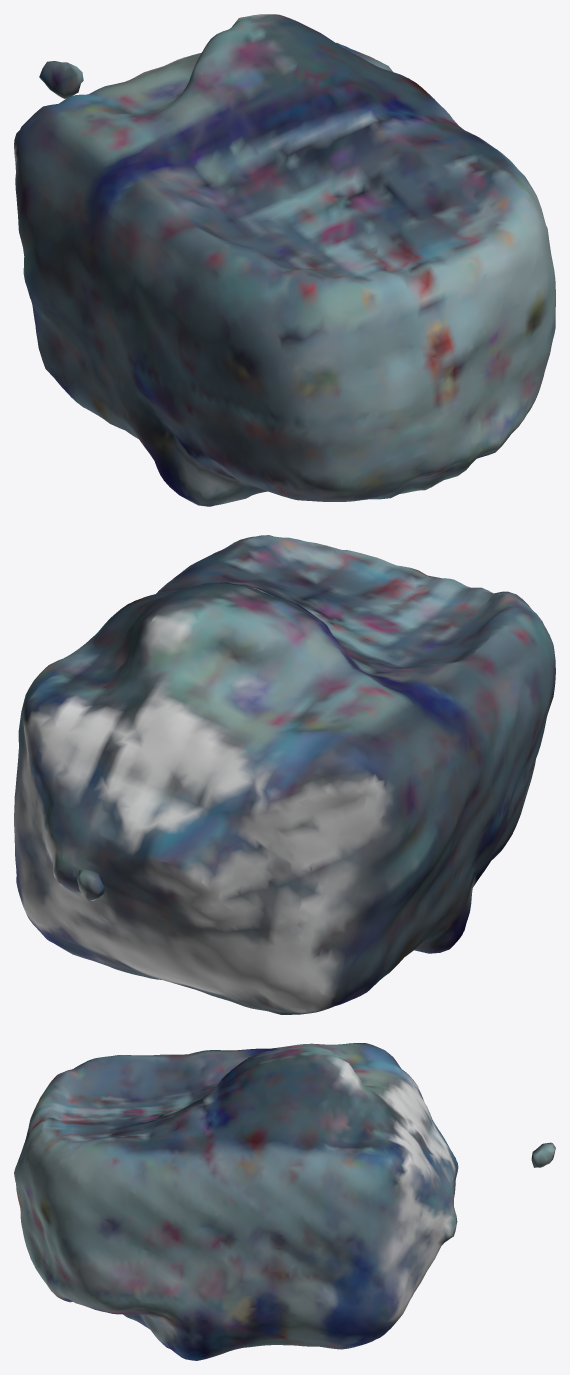
File: backpack.glb
3 views of the same model, one above another, from view 1: azimuth 30°, elevation 25°; view 2: azimuth 150°, elevation 25°; view 3: azimuth 270°, elevation 25° (orthographic). The views are drawn at different scales.
Bounding box in the file's own units: 0.598 × 0.5631 × 0.9998.
